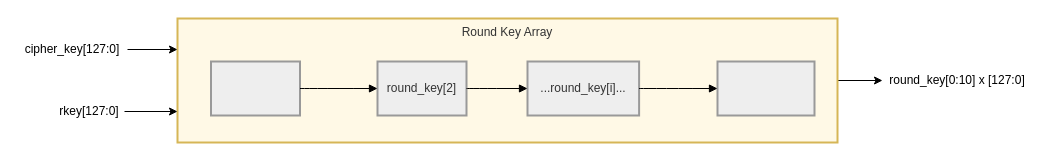
This 1049x160 diagram has some shape labels left out. The shapes that lost their labels are listed below. From the top down, each one's centre as x and y in pixels, then its label:
At [255,88]: "round_key[0]".
At [765,88]: "round_key[10]".
